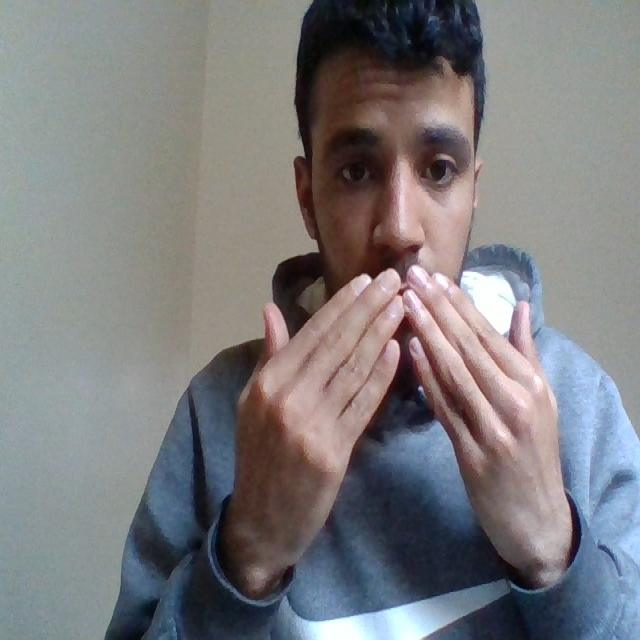Thanks: (214, 256, 587, 576)
